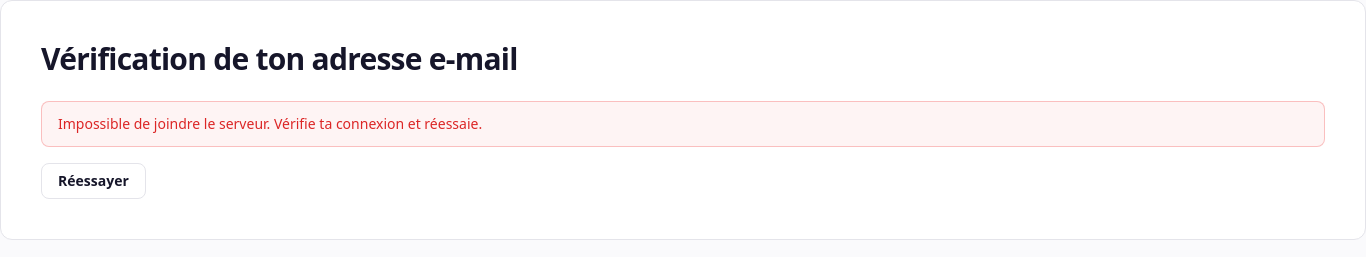
Scenario: Page « Vérification de ton adresse e-mail » › propose de réessayer quand le serveur est injoignable
The width and height of the screenshot is (1366, 257).
Expected: the message shows "Impossible de joindre le serveur", [58,114,482,133]
Click the button "Réessayer".
click(93, 181)  # box [41,163,146,199]
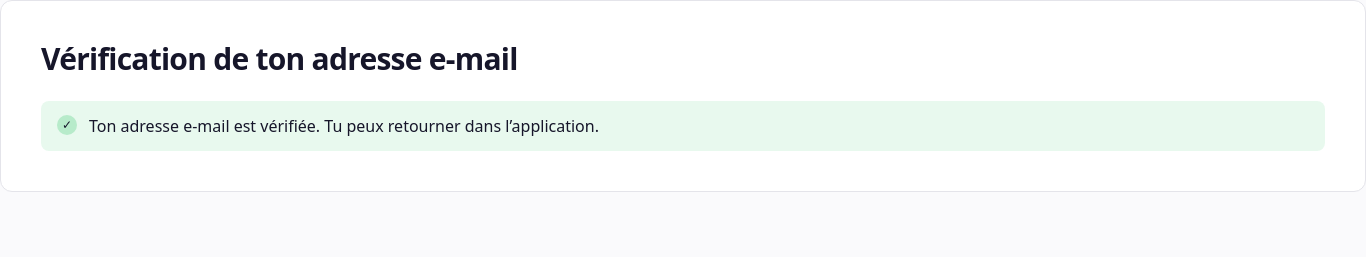
Now the text "Ton adresse e-mail est vérifiée" is shown, box [89,115,599,137]
